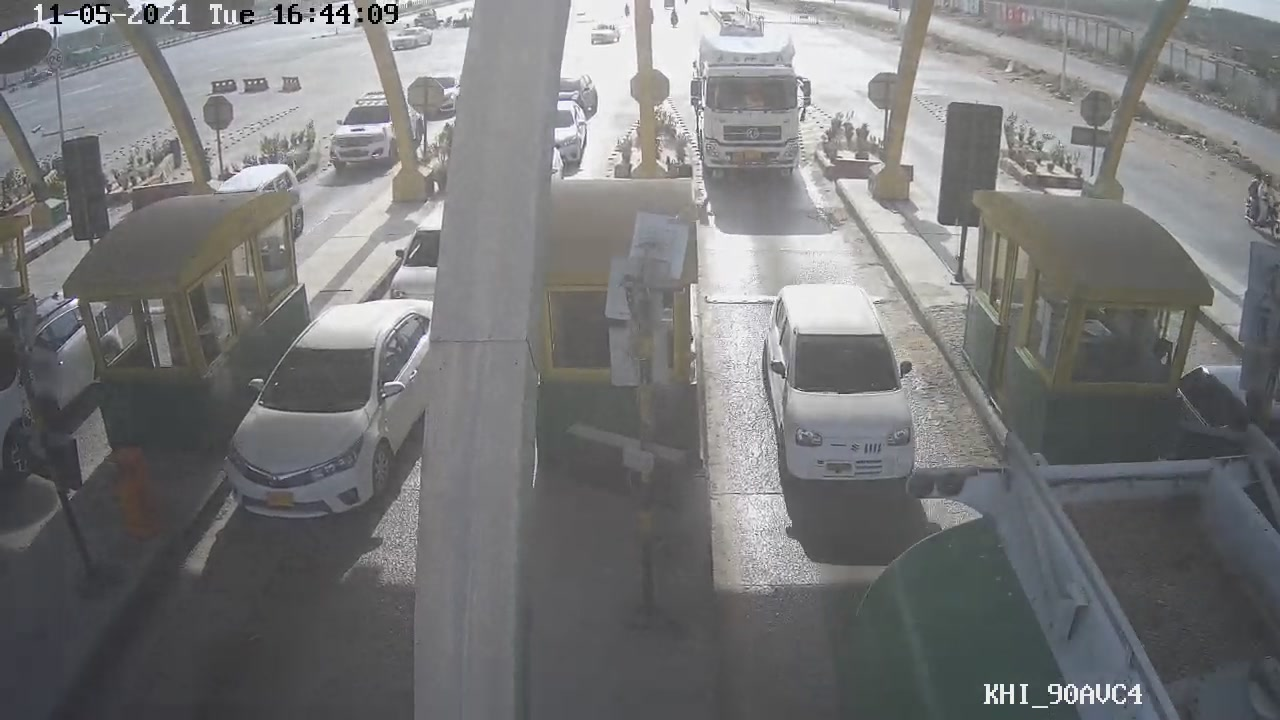F1: (748, 281, 924, 488)
